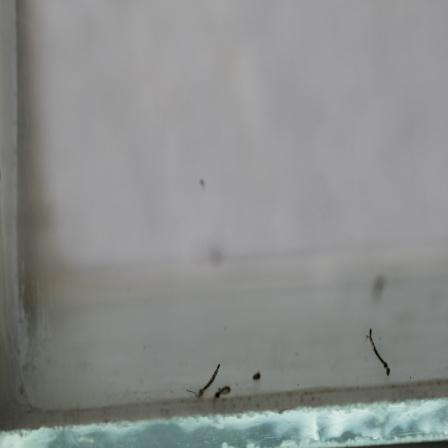Jentik-Nyamuk: (362, 328, 393, 378), (194, 359, 223, 401)
